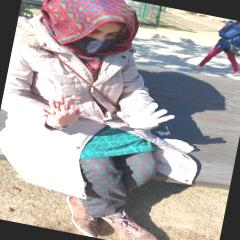gloved: (114, 96, 176, 133)
not-gloved: (38, 90, 88, 130)
